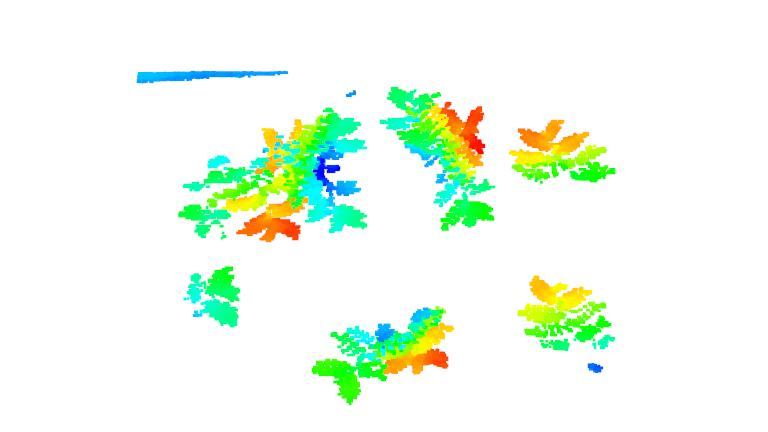chickpea: (384, 79, 497, 236), (312, 304, 453, 406), (261, 108, 370, 231), (176, 157, 304, 248), (516, 273, 616, 373), (514, 118, 616, 184), (181, 265, 244, 327)
